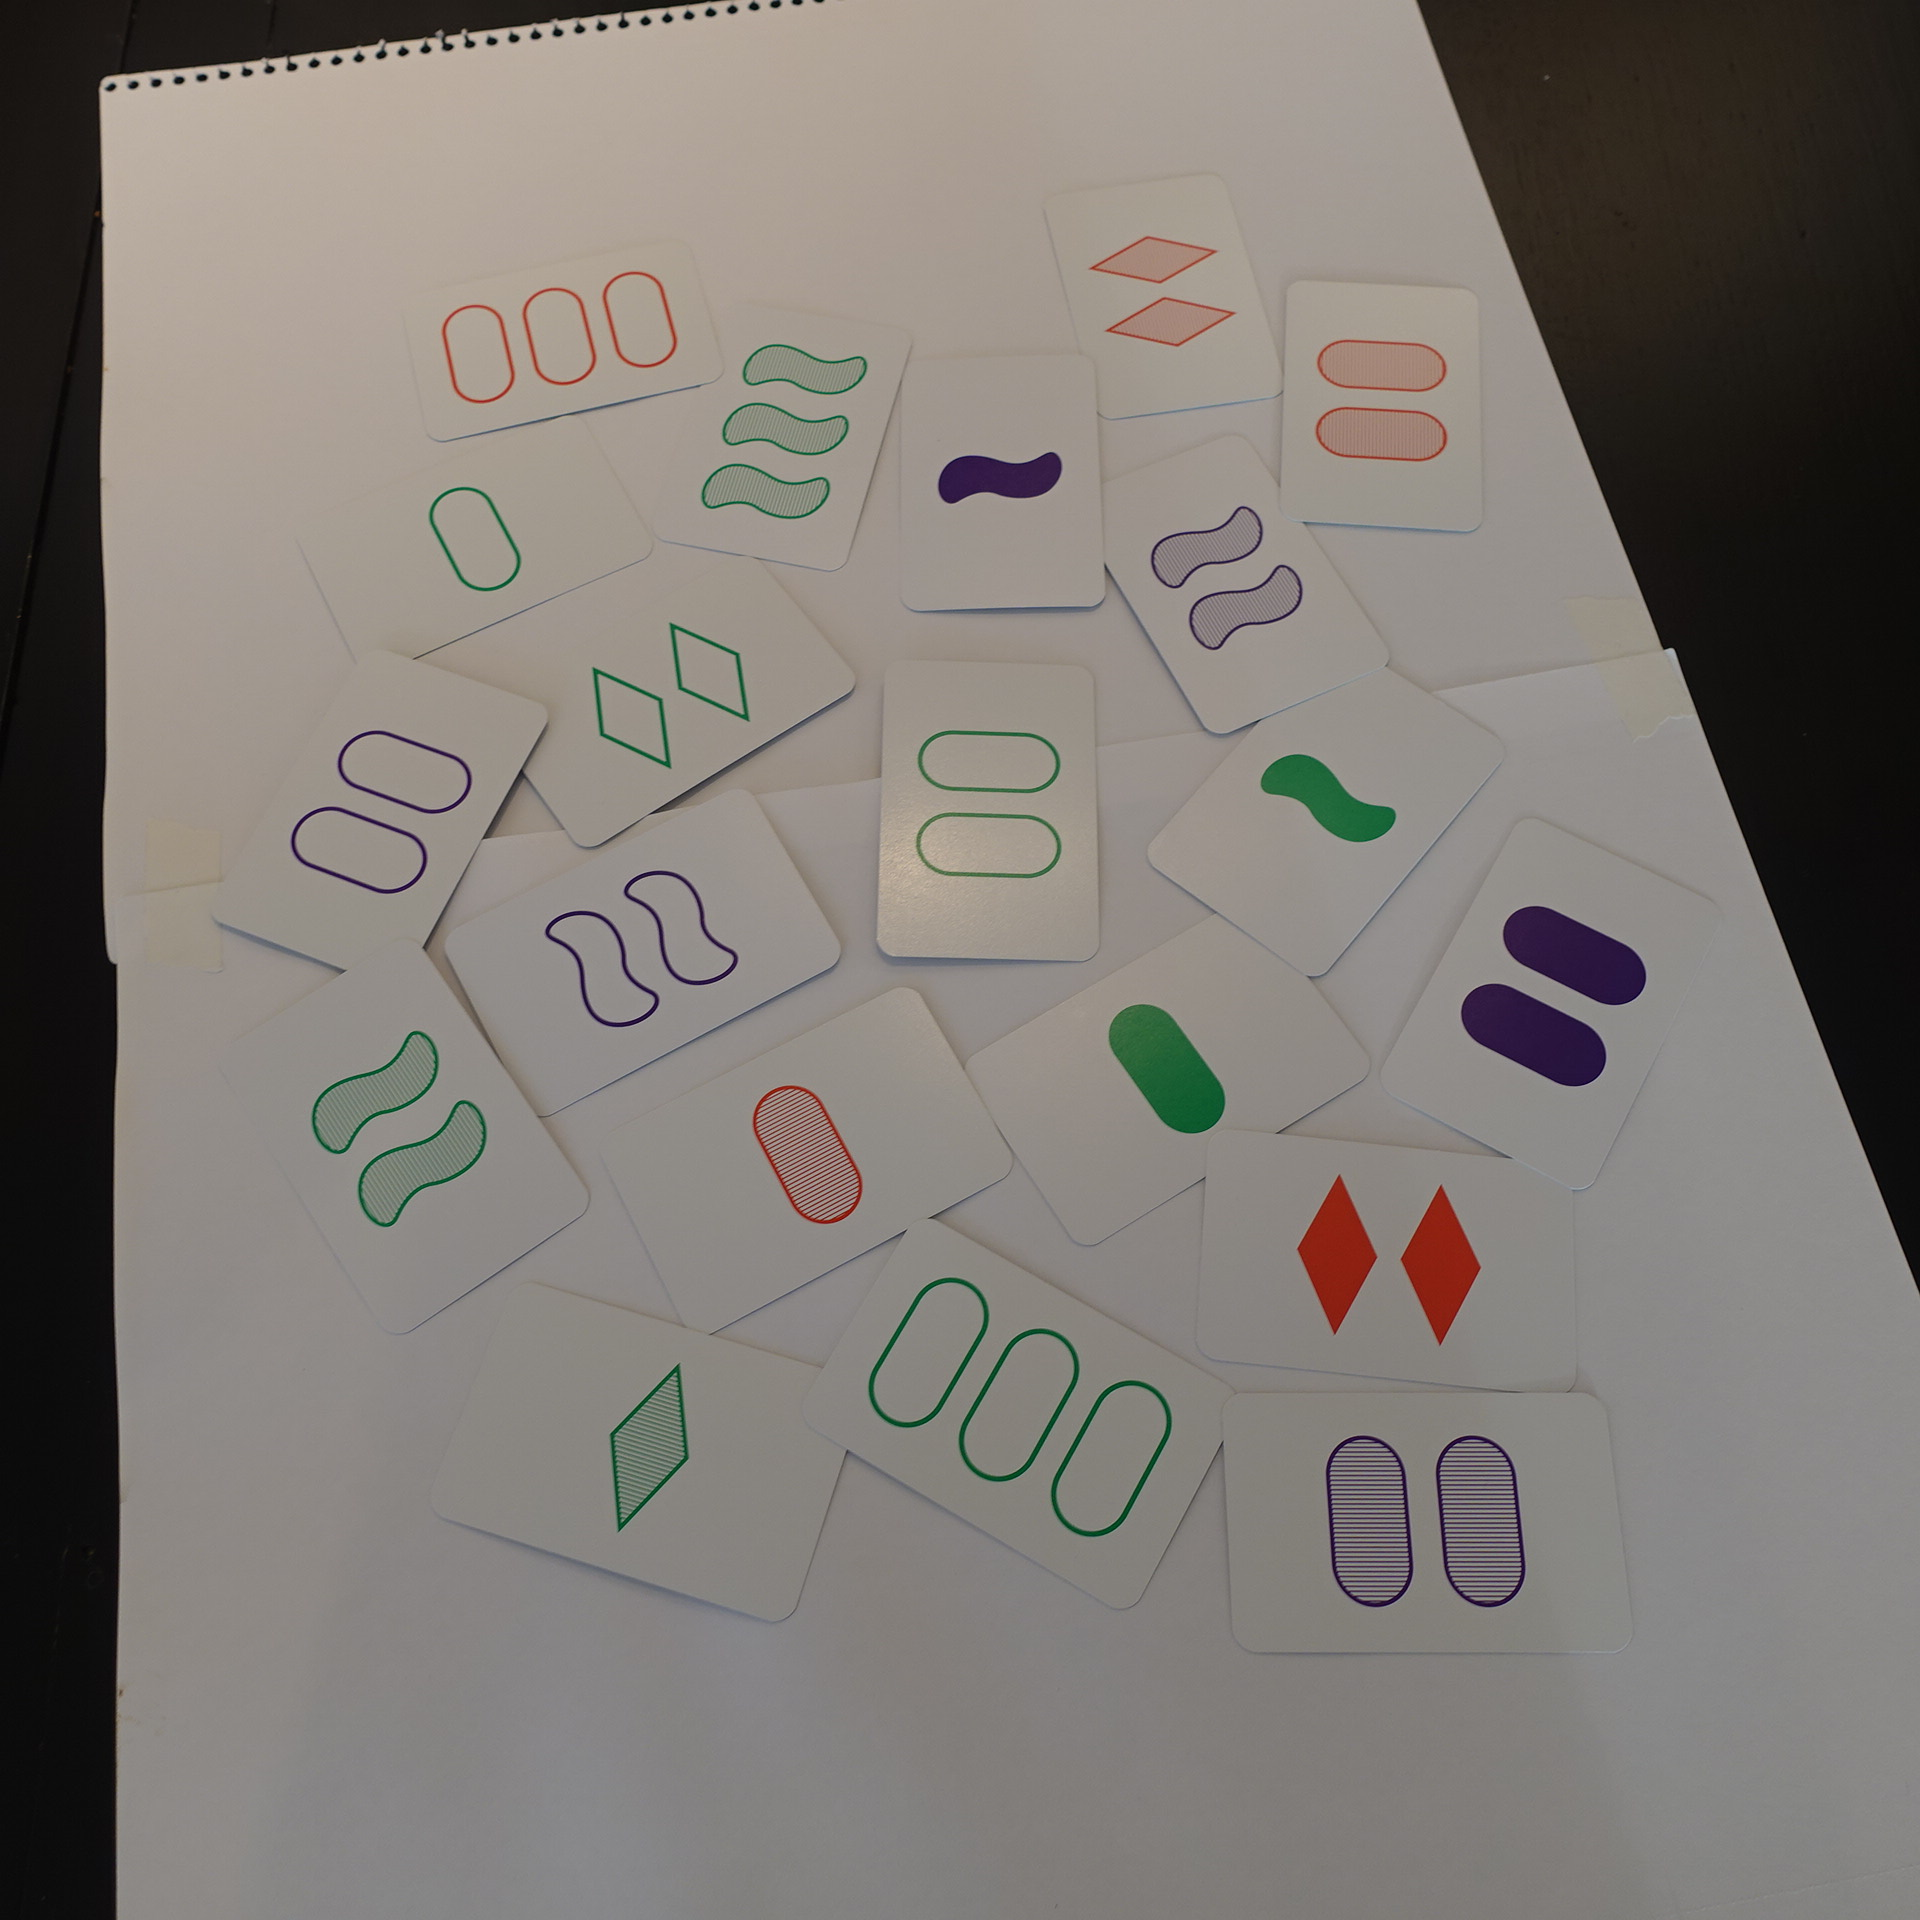c-1-f-d-g: (1139, 638, 1514, 986)
c-1-f-d-p: (884, 339, 1120, 622)
c-1-f-o-g: (964, 879, 1385, 1255)
c-1-h-d-g: (420, 1269, 870, 1633)
c-1-h-o-r: (594, 972, 1025, 1356)
c-1-u-o-g: (287, 415, 659, 686)
c-2-f-d-r: (1187, 1120, 1598, 1401)
c-2-f-o-p: (1370, 802, 1744, 1204)
c-2-h-d-g: (206, 932, 601, 1349)
c-2-h-d-p: (1074, 424, 1407, 740)
c-2-h-d-r: (1029, 164, 1294, 424)
c-2-h-o-p: (1203, 1382, 1653, 1670)
c-2-h-o-r: (1266, 262, 1502, 543)
c-2-u-d-g: (492, 543, 867, 858)
c-2-u-d-p: (433, 775, 855, 1131)
c-2-u-o-g: (860, 649, 1115, 979)
c-2-u-o-p: (197, 638, 559, 1000)
c-3-h-d-g: (644, 294, 923, 580)
c-3-u-o-g: (798, 1206, 1247, 1616)
c-3-u-o-r: (389, 232, 730, 448)
